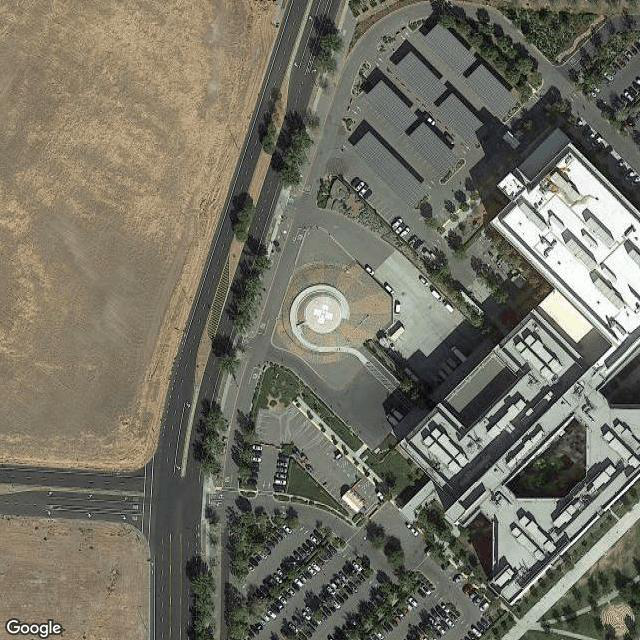Helipad: (302, 292, 346, 336)
